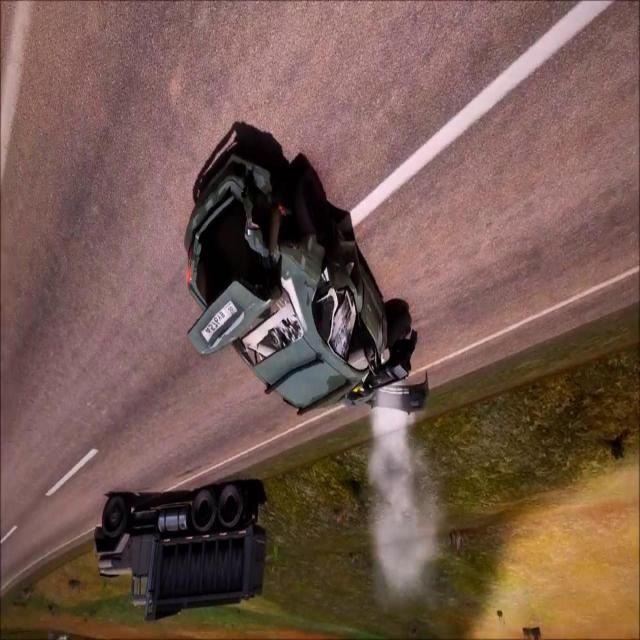severe: (184, 117, 433, 431)
